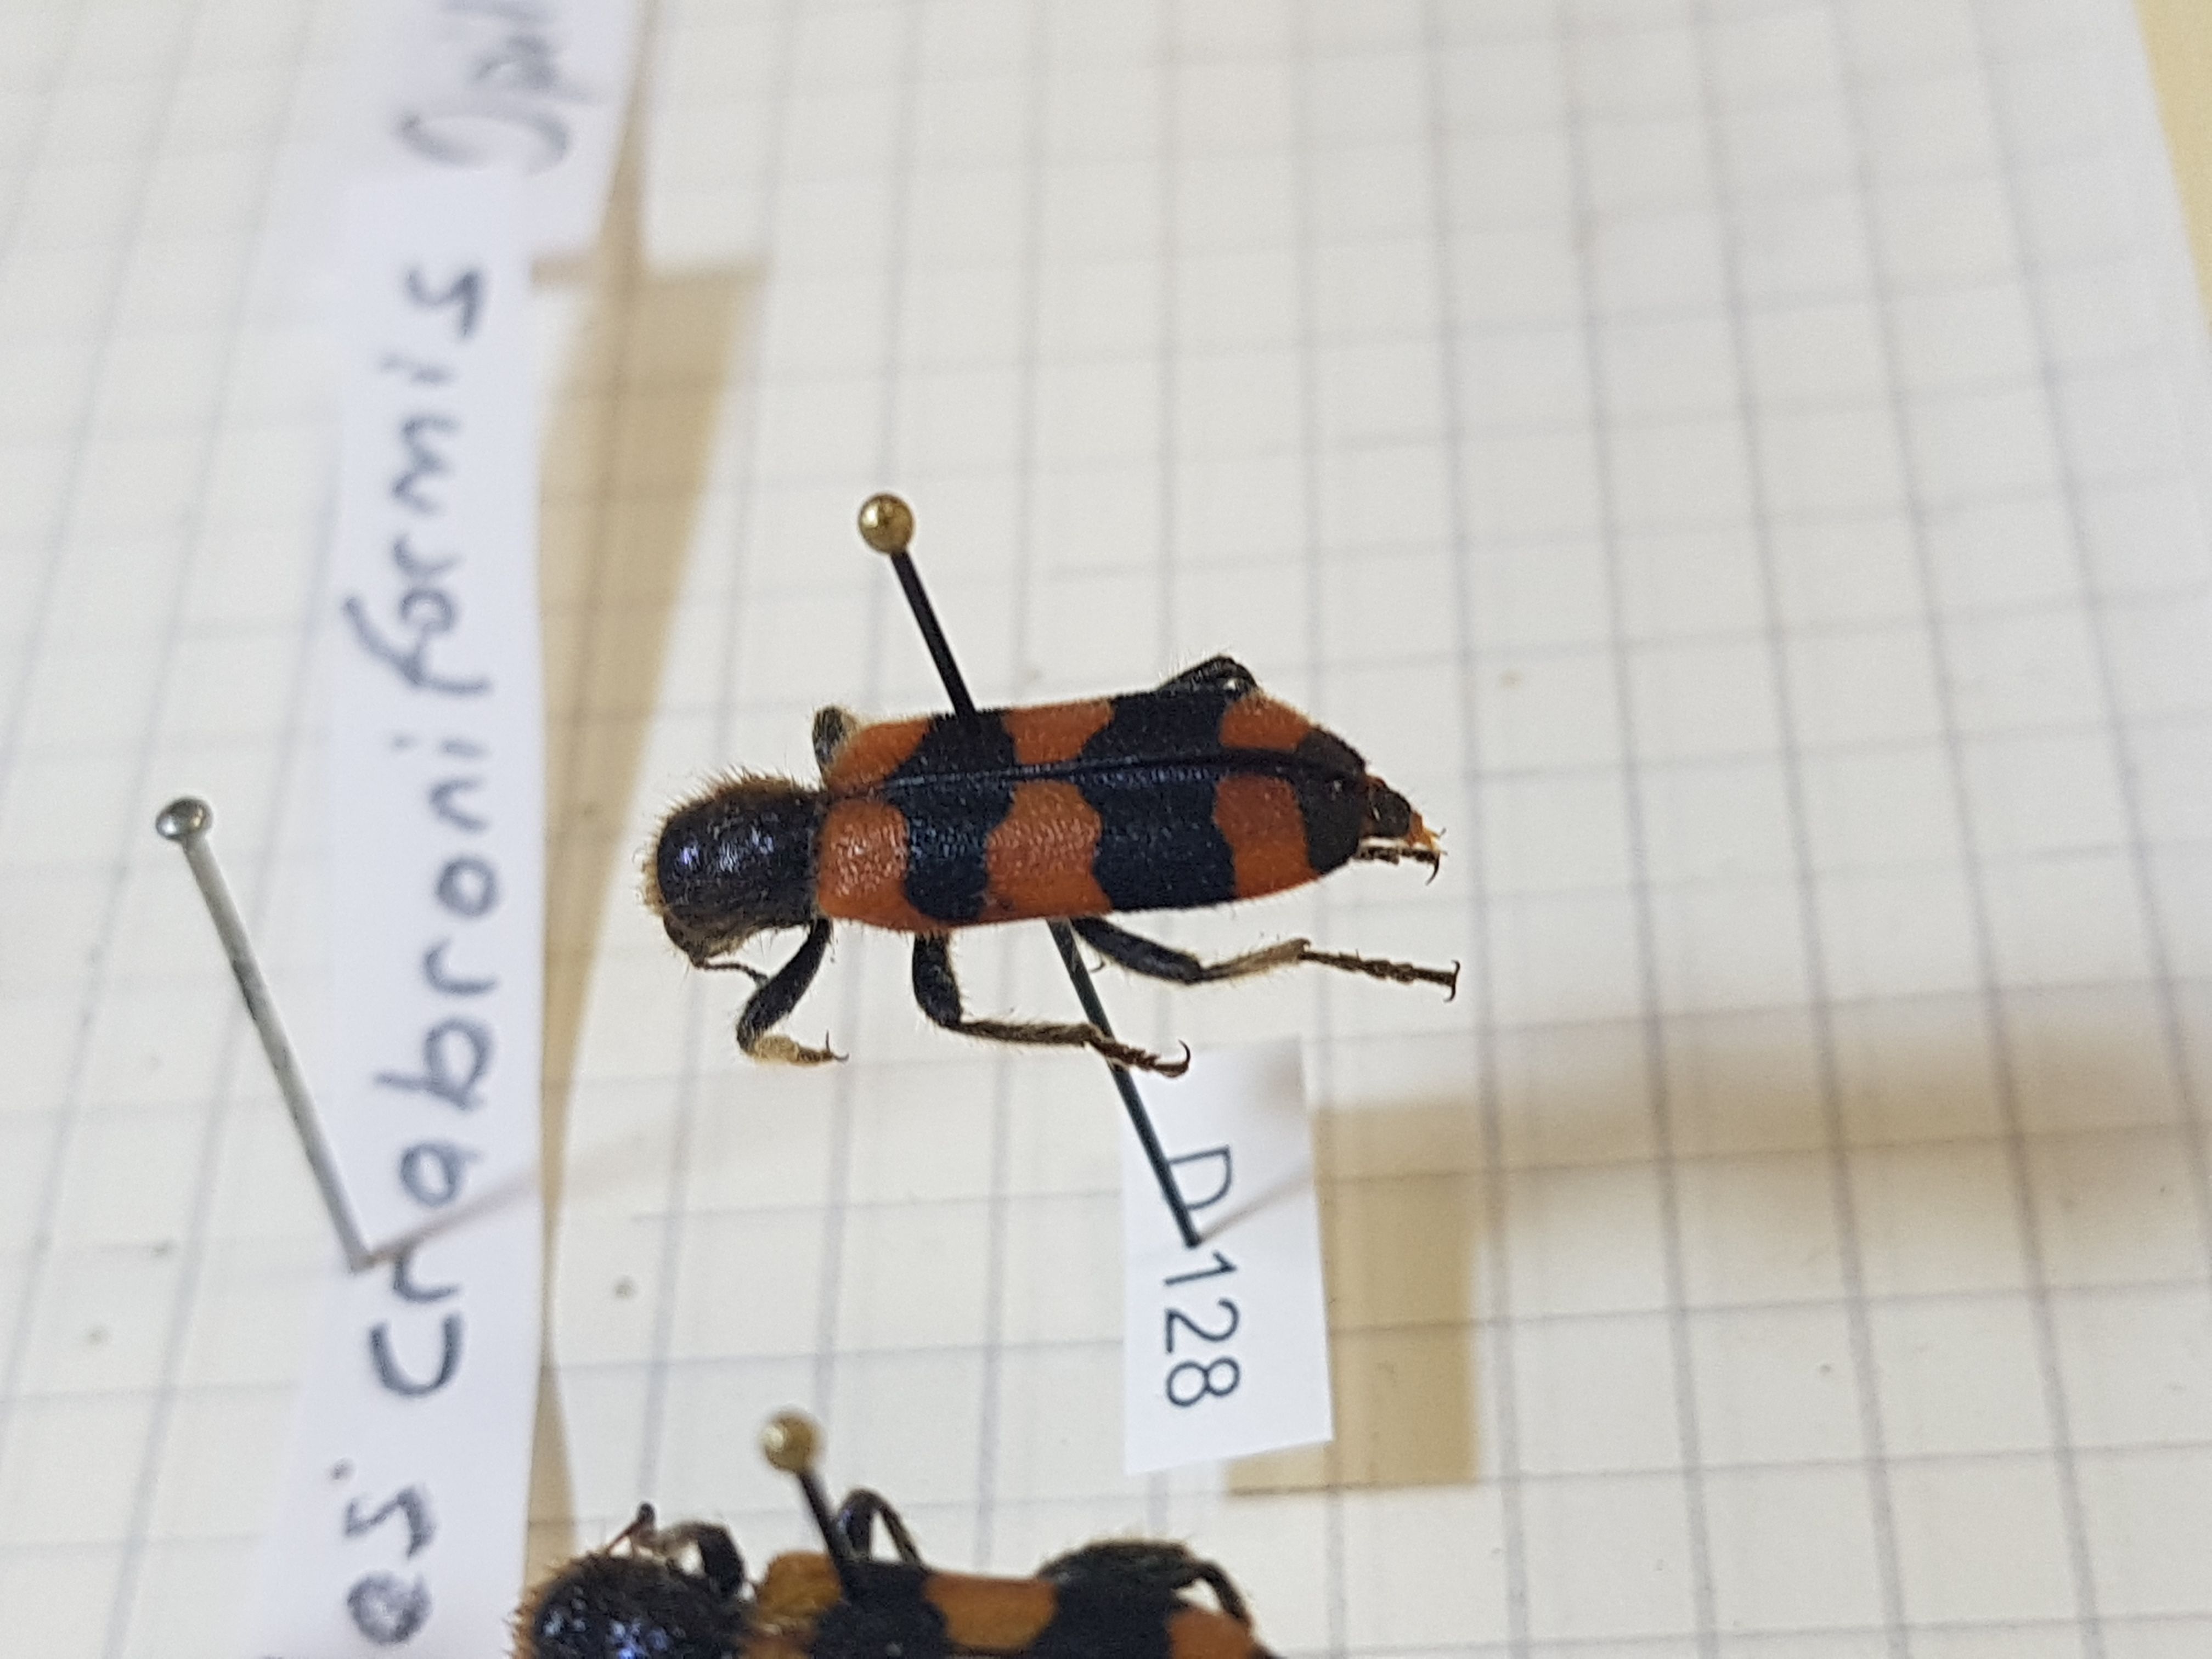trichodes_crabroniformis: (644, 640, 1489, 1072)
